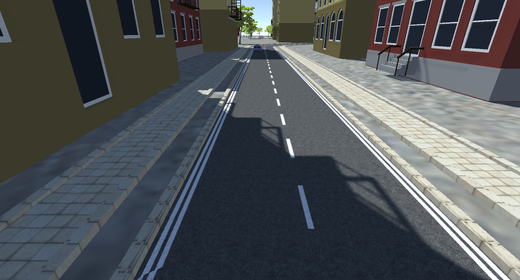centerstrip: (266, 63, 314, 231)
sidestripe: (330, 106, 510, 278), (140, 54, 250, 279), (293, 66, 328, 106)
